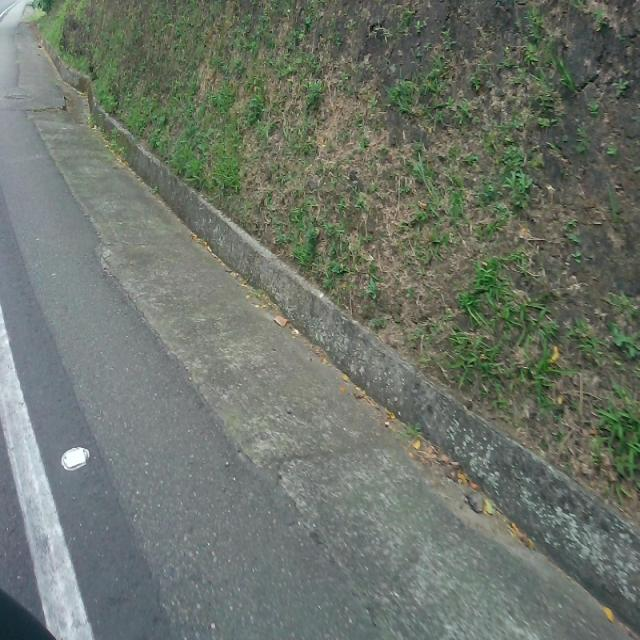DITCH: (2, 4, 638, 638), (4, 2, 638, 637)
